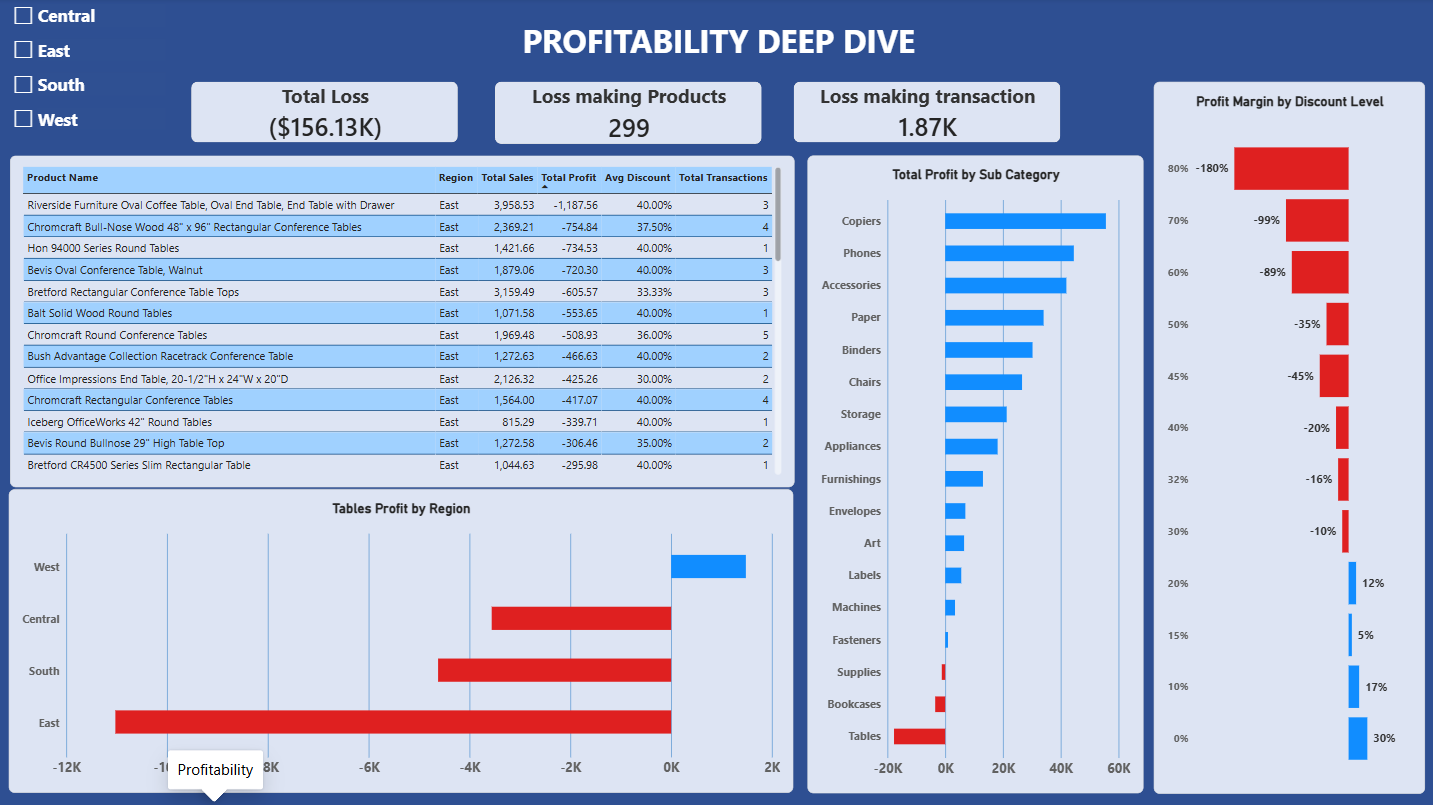

This screenshot's page, from the dashboard's own definition file:
{"tool":"powerbi","page":{"name":"Profitability","canvas":[1920,1080],"ordinal":1},"visuals":[{"type":"textbox","box":[0,27.2,1920.1,57.9],"z":0},{"type":"clusteredBarChart","title":"Total Profit by Sub Category","fields":{"Category":["retail_analysis superstore.Sub-Category"],"Y":["retail_analysis superstore.Total Proft"]},"box":[1078.6,209.9,448.7,852.1],"z":1000},{"type":"cardVisual","fields":{"Data":["retail_analysis superstore.Total Loss"]},"box":[255.2,111.1,356.5,81.4],"z":2000},{"type":"cardVisual","fields":{"Data":["retail_analysis superstore.Loss-making Products"]},"box":[660.7,111.1,356.5,83.2],"z":3000},{"type":"cardVisual","fields":{"Data":["retail_analysis superstore.Loss making transaction"]},"box":[1060,111.1,356.5,81.4],"z":4000},{"type":"clusteredBarChart","title":"Tables Profit by Region","fields":{"Category":["retail_analysis superstore.Region"],"Y":["retail_analysis superstore.Total Proft"]},"box":[12.3,656.6,1047.7,405.5],"z":6000},{"type":"tableEx","fields":{"Values":["retail_analysis superstore.Product Name","retail_analysis superstore.Region","retail_analysis superstore.Total Sales","retail_analysis superstore.Total Proft","retail_analysis superstore.Average Discount","retail_analysis superstore.Total Transactions"]},"box":[12.7,209.9,1047.8,443.4],"z":7000},{"type":"slicer","title":"REGION","fields":{"Values":["retail_analysis superstore.Region"]},"box":[12.3,0,209.9,195.5],"z":8000},{"type":"clusteredBarChart","title":"Profit Margin by Discount Level","fields":{"Category":["retail_analysis superstore.Discount"],"Y":["retail_analysis superstore.Profit Margin"]},"box":[1541.7,111.1,362.3,950.9],"z":9000}]}

Visuals, with their boxes in screenshot pixels (x1, y1, x2, y2), scaled from the page's 1920x1080 canvas onto the 1433x805 screenshot:
textbox: (0, 20, 1432, 63)
"Total Profit by Sub Category" clusteredBarChart: (805, 156, 1140, 792)
cardVisual - retail_analysis superstore.Total Loss: (190, 83, 457, 143)
cardVisual - retail_analysis superstore.Loss-making Products: (493, 83, 759, 145)
cardVisual - retail_analysis superstore.Loss making transaction: (791, 83, 1057, 143)
"Tables Profit by Region" clusteredBarChart: (9, 489, 791, 792)
tableEx - retail_analysis superstore.Product Name x retail_analysis superstore.Region: (9, 156, 792, 487)
"REGION" slicer: (9, 0, 166, 146)
"Profit Margin by Discount Level" clusteredBarChart: (1151, 83, 1421, 792)
